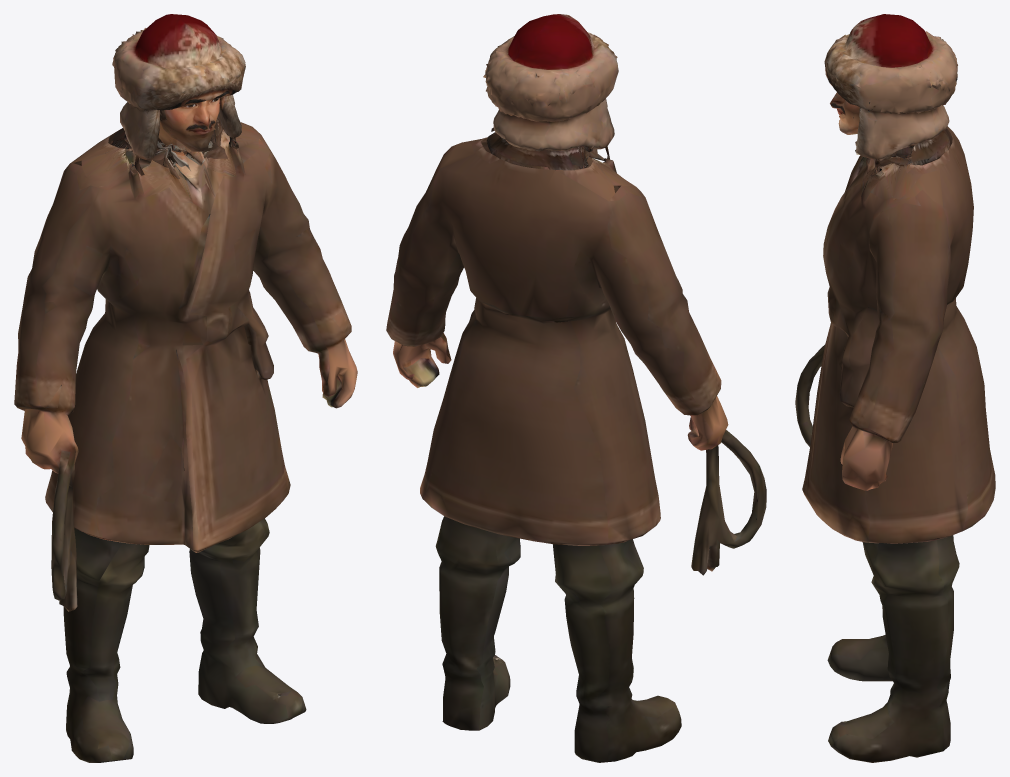
File: herder-dauren.gen.glb
3 renders of one model, left to right at view 1: azimuth 30°, elevation 25°; view 2: azimuth 150°, elevation 25°; view 3: azimuth 270°, elevation 25°, orthographic.
Parts seen in each view (by area): view 1: herder-dauren.raw; view 2: herder-dauren.raw; view 3: herder-dauren.raw.
Part boxes in pixels (left/top/right/bottom): herder-dauren.raw: left=14, top=14, right=357, bottom=762; herder-dauren.raw: left=386, top=14, right=766, bottom=762; herder-dauren.raw: left=795, top=14, right=995, bottom=762.
Bounding box in the file's own units: 0.9165 × 1.85 × 0.4826.
Materials: 1 (1 with a texture image).
